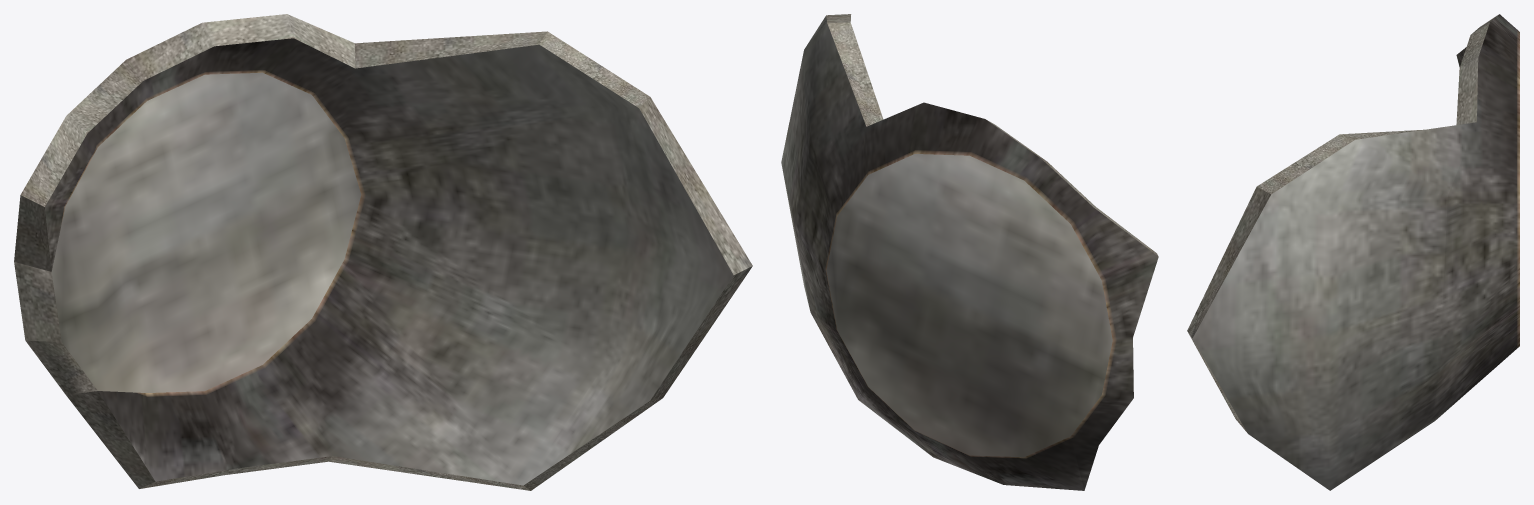
File: egypt_prop_vase_br4_interior.glb
3 renders of one model, left to right at view 1: azimuth 30°, elevation 25°; view 2: azimuth 150°, elevation 25°; view 3: azimuth 270°, elevation 25°, orthographic. The views are drawn at different scales.
Bounding box in the file's own units: 23.77 × 18.37 × 14.76.
Materials: 1 (1 with a texture image).
